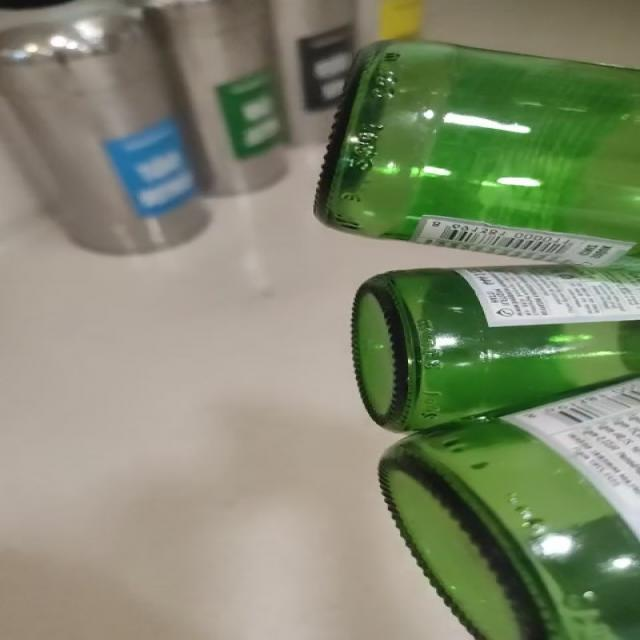Glass: (315, 40, 639, 640)
